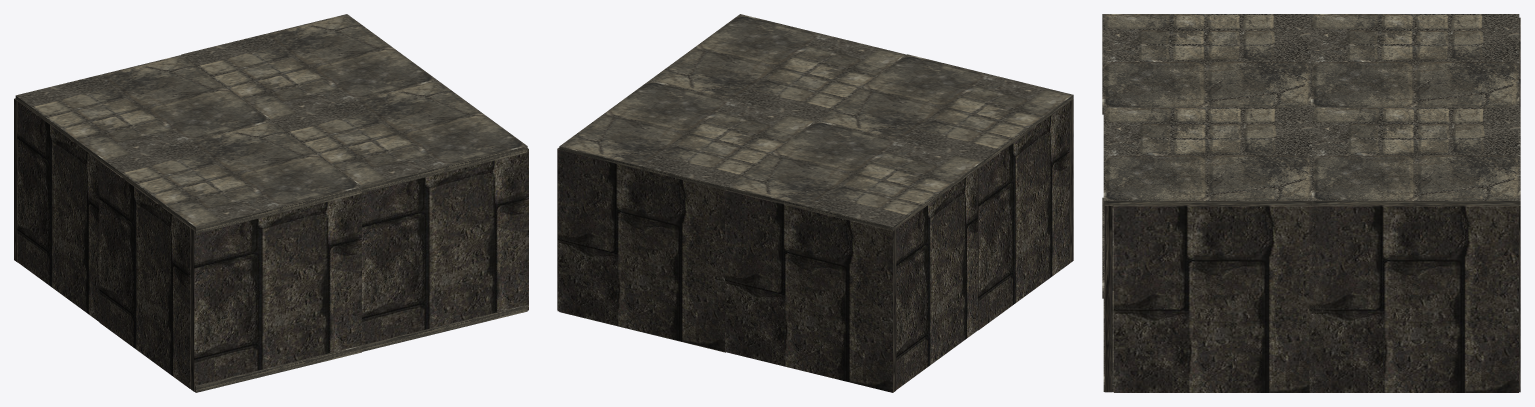
File: boss-rooma.glb
3 renders of one model, left to right at view 1: azimuth 30°, elevation 25°; view 2: azimuth 150°, elevation 25°; view 3: azimuth 270°, elevation 25°, orthographic. The views are drawn at different scales.
Parts seen in each view (by area): view 1: Cube.002, Cube.009, Cube.017, Cube.019, Cube.016, Cube.013, Cube.018, Cube.005, Cube.010, Cube.006, Cube.003; view 2: Cube.003, Cube.011, Cube.016, Cube.018, Cube.017, Cube.013, Cube.019, Cube.005, Cube.002; view 3: Cube.004, Cube.012, Cube.019, Cube.018, Cube.016, Cube.017, Cube.009, Cube.010, Cube.006, Cube.011.
Boxes of the visible parts, x1,y1,x2,y2 form: Cube.002: [190, 193, 361, 391]; Cube.009: [362, 148, 528, 344]; Cube.017: [106, 121, 361, 233]; Cube.019: [271, 80, 527, 192]; Cube.016: [15, 55, 271, 164]; Cube.013: [99, 161, 190, 388]; Cube.018: [181, 14, 436, 120]; Cube.005: [18, 101, 105, 321]; Cube.010: [195, 345, 361, 392]; Cube.006: [361, 305, 527, 351]; Cube.003: [14, 98, 17, 262]; Cube.003: [725, 190, 896, 392]; Cube.011: [557, 149, 725, 351]; Cube.016: [726, 120, 982, 230]; Cube.018: [559, 80, 815, 190]; Cube.017: [817, 54, 1073, 164]; Cube.013: [978, 102, 1069, 330]; Cube.019: [650, 14, 906, 120]; Cube.005: [893, 168, 977, 389]; Cube.002: [1069, 99, 1073, 262]; Cube.004: [1309, 205, 1518, 392]; Cube.012: [1113, 205, 1323, 392]; Cube.019: [1103, 107, 1312, 208]; Cube.018: [1312, 107, 1520, 205]; Cube.016: [1310, 14, 1519, 107]; Cube.017: [1102, 14, 1310, 114]; Cube.009: [1104, 205, 1112, 392]; Cube.010: [1102, 197, 1113, 298]; Cube.006: [1103, 291, 1113, 391]; Cube.011: [1519, 205, 1520, 392].
Size of the model in its own units: 39 by 18.36 by 36.44.
Materials: 3 (3 with a texture image).
